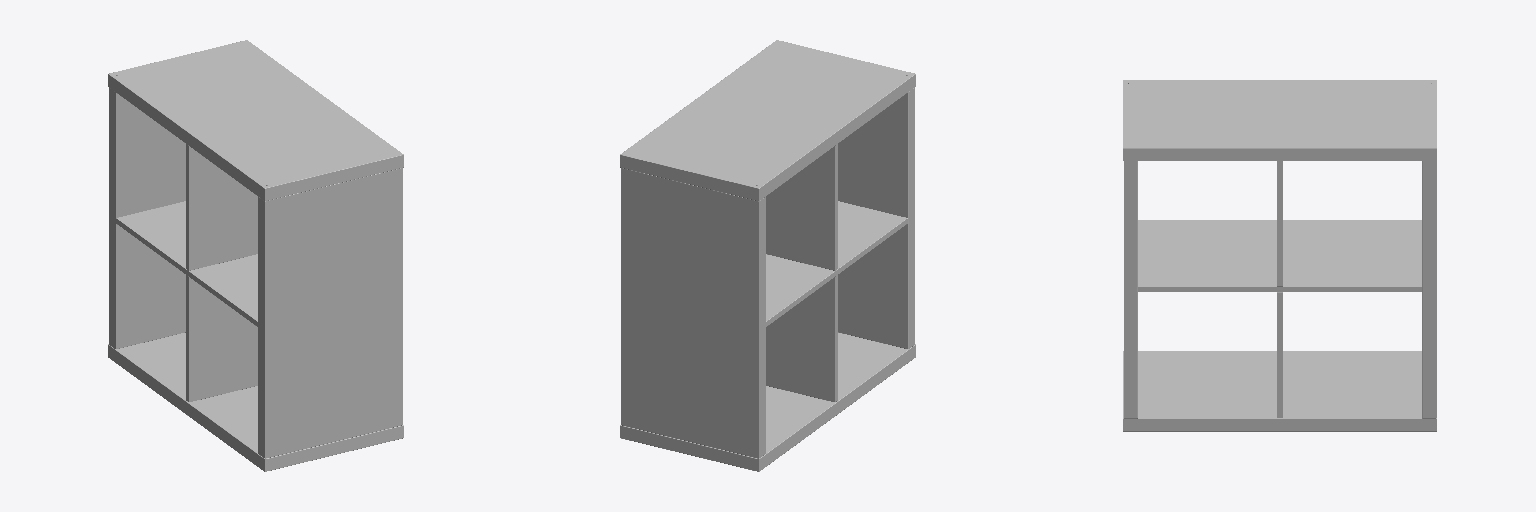
File: kallax.obj
3 views of the same model, side by side, from view 1: azimuth 30°, elevation 25°; view 2: azimuth 150°, elevation 25°; view 3: azimuth 270°, elevation 25° (orthographic).
Parts seen in each view (by area): view 1: KALLAX__77x77_Kallax_77x77; view 2: KALLAX__77x77_Kallax_77x77; view 3: KALLAX__77x77_Kallax_77x77.
Boxes of the visible parts, x1,y1,x2,y2 form: KALLAX__77x77_Kallax_77x77: [108, 40, 403, 471]; KALLAX__77x77_Kallax_77x77: [620, 40, 915, 471]; KALLAX__77x77_Kallax_77x77: [1123, 80, 1436, 431].
Size of the model in its own units: 0.392 by 0.7635 by 0.7646.